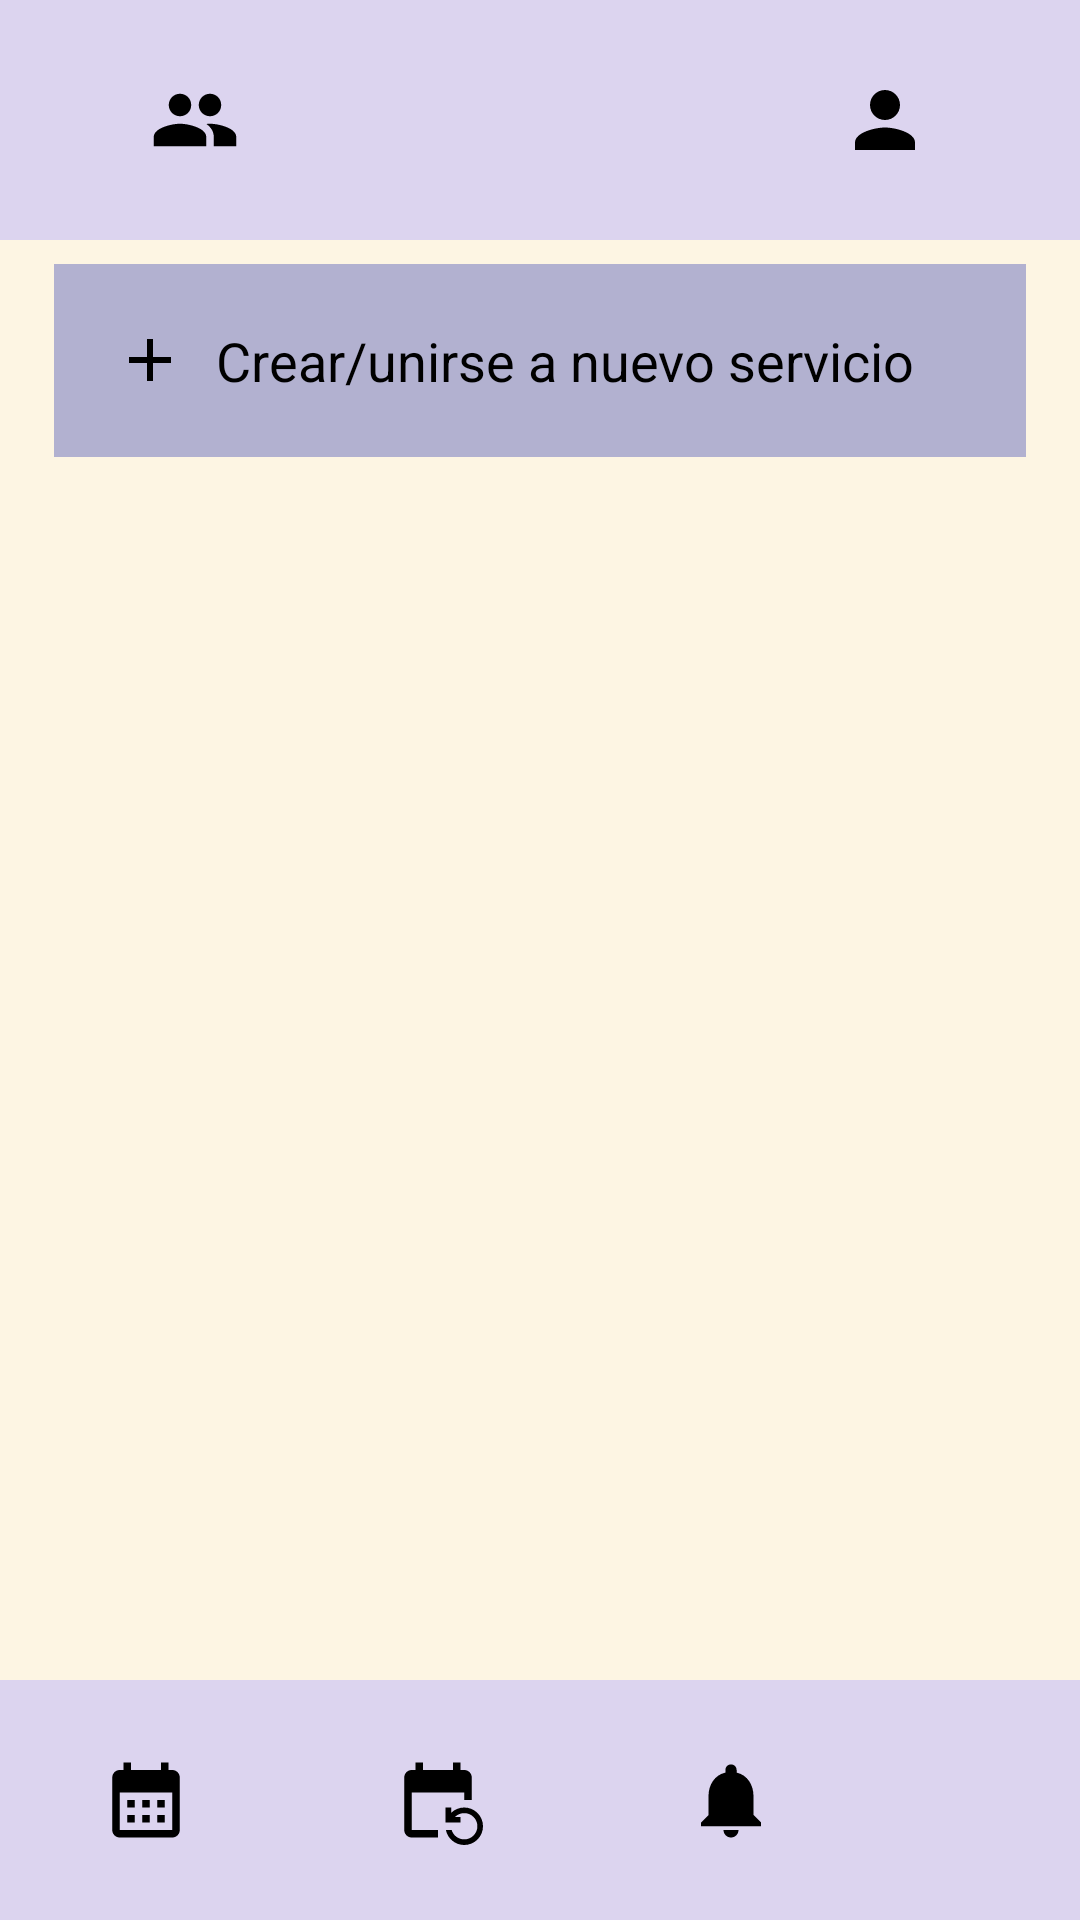

Locate icon controls on the screen. Image size 1080x1920, boxes as bbox=(x1, y1, x2, y2).
Calendario: bbox=(112, 1762, 180, 1838)
change: bbox=(404, 1762, 483, 1845)
group: bbox=(153, 93, 237, 147)
Notificaciones: bbox=(701, 1764, 761, 1838)
User: bbox=(855, 90, 915, 150)
